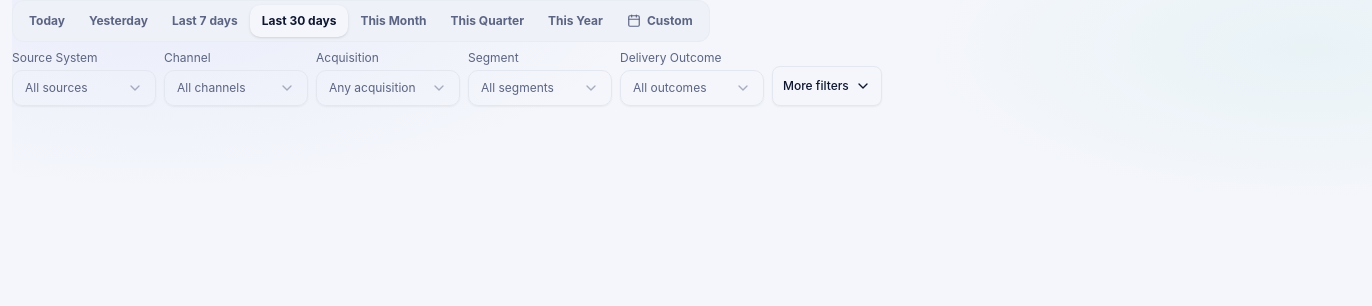
Test: AnalyticsFilterBar › populates categories from the bare-array GET /categories response
The image size is (1372, 306).
Click the button "More filters" at (827, 86), box left=772, top=66, right=882, bottom=106
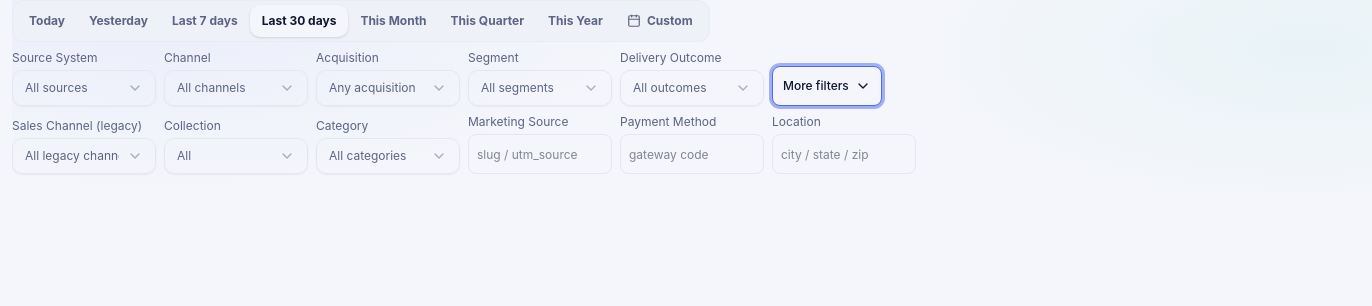
Expected: the text "All categories" is shown, left=329, top=148, right=406, bottom=164
Click the dropdown "All categories" at (388, 156), box left=316, top=138, right=460, bottom=174
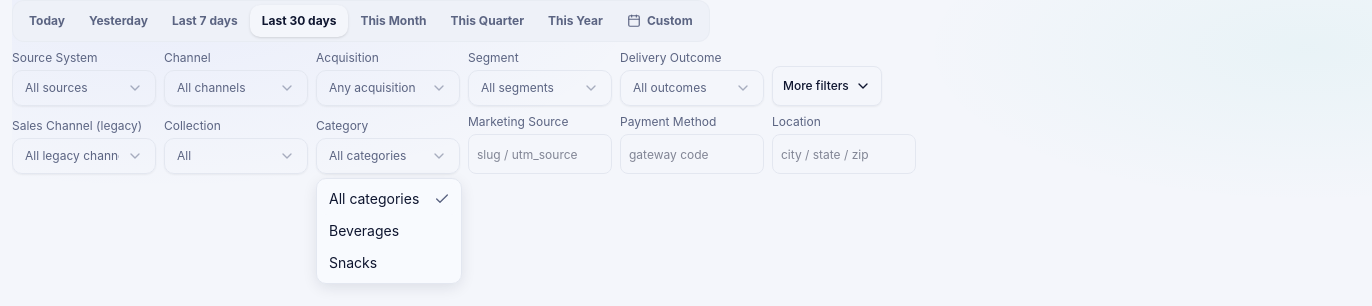
Expected: the text "Beverages" is shown, left=329, top=221, right=399, bottom=241
